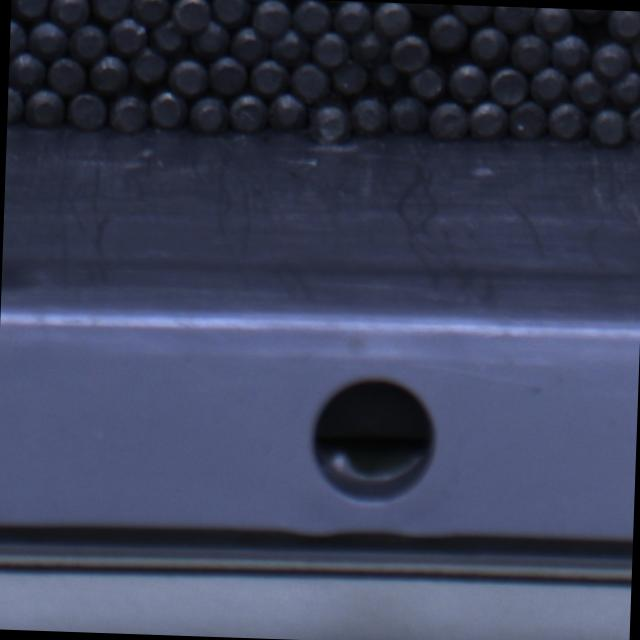tool: (306, 101, 349, 141), (428, 100, 470, 140), (188, 18, 230, 58), (528, 66, 569, 106), (89, 53, 130, 93), (448, 61, 488, 102), (551, 32, 592, 72), (109, 92, 150, 132), (428, 12, 468, 53), (469, 25, 510, 65), (387, 94, 428, 134), (546, 101, 588, 140), (510, 32, 550, 72), (208, 54, 248, 94), (66, 90, 106, 130), (507, 99, 547, 139), (290, 62, 330, 102), (227, 92, 267, 132), (268, 95, 308, 135), (66, 23, 107, 62), (349, 27, 390, 66), (488, 65, 528, 104), (468, 100, 508, 139), (25, 89, 65, 128), (148, 88, 188, 127), (348, 95, 388, 134), (388, 34, 429, 72), (107, 16, 148, 54), (270, 31, 312, 68), (46, 56, 86, 94), (26, 23, 66, 61), (168, 57, 208, 95), (188, 95, 228, 133), (232, 25, 272, 63), (589, 40, 630, 77), (130, 46, 168, 85), (248, 58, 288, 95), (148, 17, 188, 54), (372, 2, 413, 38), (252, 0, 293, 36), (588, 106, 626, 144), (570, 69, 608, 107), (330, 58, 369, 95), (290, 0, 331, 35), (10, 51, 47, 89), (333, 1, 373, 36), (311, 29, 348, 66), (607, 67, 640, 107), (531, 7, 572, 38), (409, 65, 446, 99), (171, 0, 211, 30), (493, 6, 536, 32), (210, 0, 251, 25), (49, 0, 89, 24), (132, 0, 172, 24), (607, 10, 640, 39), (90, 0, 131, 20), (450, 5, 492, 22), (10, 16, 28, 55), (12, 0, 49, 18), (7, 84, 24, 123), (626, 104, 640, 146), (570, 9, 612, 23), (630, 31, 640, 68)
